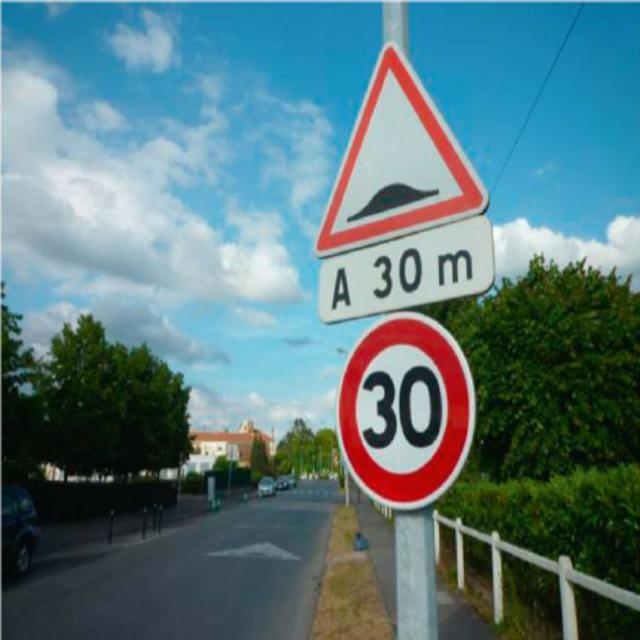Bump: (317, 44, 486, 245)
speedlimit_30: (342, 314, 474, 516)
